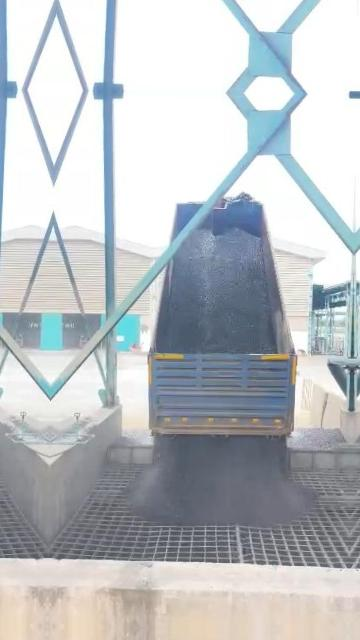gravel: (128, 436, 315, 527), (157, 228, 276, 353), (288, 427, 349, 453)
